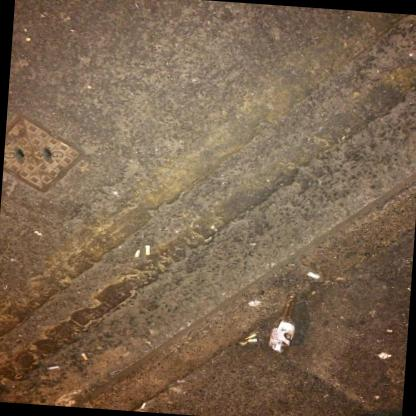Paper: (243, 332, 256, 340), (306, 270, 319, 278), (145, 244, 149, 254), (134, 248, 139, 256), (141, 401, 146, 408), (235, 341, 246, 344), (245, 338, 256, 340)
Plastic: (267, 293, 296, 353)
